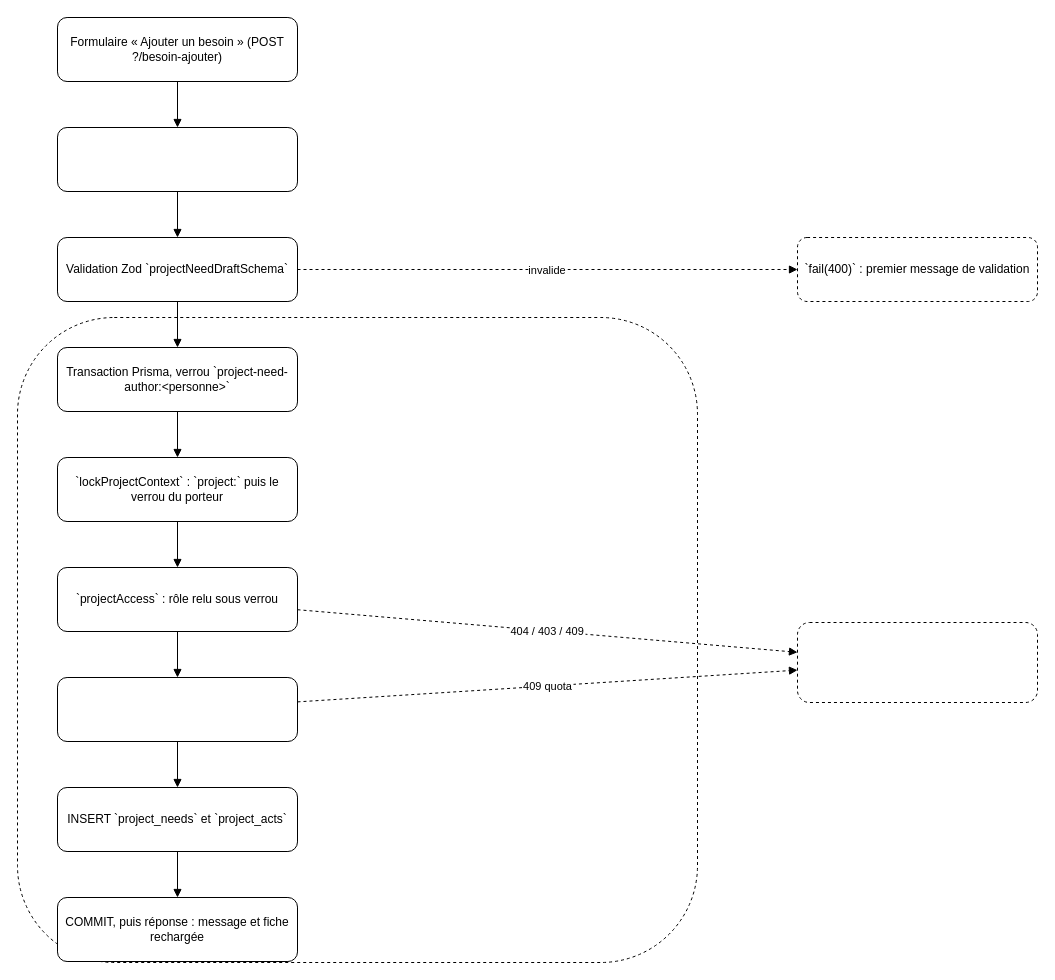
Some shapes in this 1055 by 980 pixel diagram are drawn without their labels. Here are the shapes that lost their labels. From the top down, the box of each, then its label:
(56, 126, 298, 192): Action serveur : identité relue depuis la session
(16, 316, 698, 962): Transaction Prisma (15 s) : ROLLBACK sur toute ProjectError
(796, 622, 1038, 702): `ProjectError` : 404, 403 ou 409, ROLLBACK
(56, 676, 298, 742): `needQuota` : trois comptages
